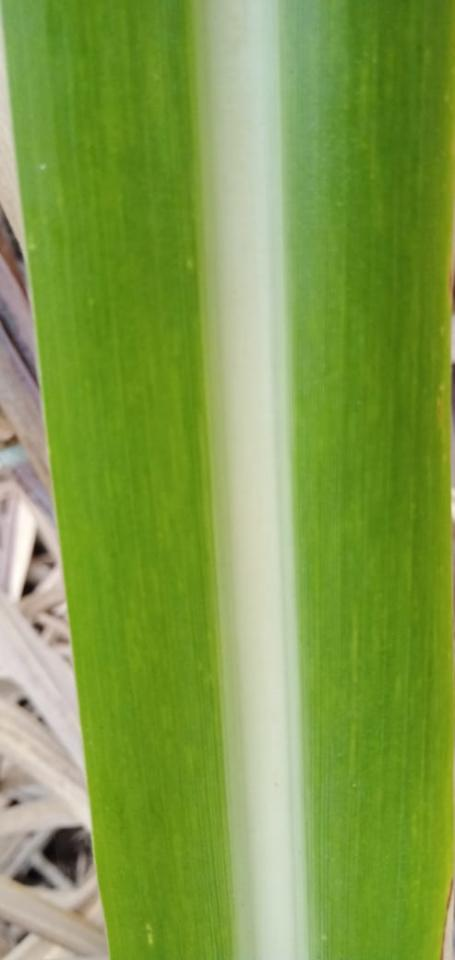Healthy: (5, 0, 454, 958)
